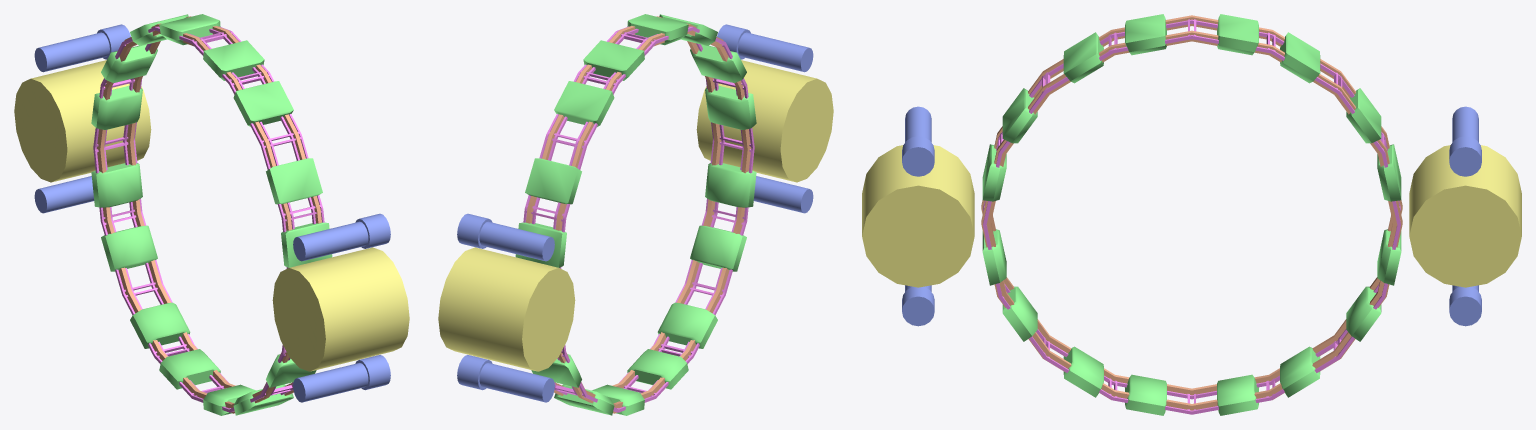
The model's file is tubeA_WituoutApart.FBX.
3 renders of one model, left to right at view 1: azimuth 30°, elevation 25°; view 2: azimuth 150°, elevation 25°; view 3: azimuth 270°, elevation 25°, orthographic. The views are drawn at different scales.
Visible parts, largest first — view 1: TubeAPartsC_v5_1, TubeAPartsD_v5_1, TubeAPartsB_v5_1_001, TubeAPartsE_v5_1, TubeAPartsF_v5_1; view 2: TubeAPartsC_v5_1, TubeAPartsD_v5_1, TubeAPartsB_v5_1_001, TubeAPartsE_v5_1, TubeAPartsF_v5_1; view 3: TubeAPartsC_v5_1, TubeAPartsD_v5_1, TubeAPartsF_v5_1, TubeAPartsB_v5_1_001, TubeAPartsE_v5_1.
Boxes of the visible parts, x1,y1,x2,y2 form: TubeAPartsC_v5_1: [14, 60, 409, 371]; TubeAPartsD_v5_1: [91, 14, 332, 415]; TubeAPartsB_v5_1_001: [34, 24, 390, 402]; TubeAPartsE_v5_1: [93, 26, 324, 412]; TubeAPartsF_v5_1: [96, 16, 321, 413]; TubeAPartsC_v5_1: [438, 60, 833, 371]; TubeAPartsD_v5_1: [515, 14, 756, 415]; TubeAPartsB_v5_1_001: [457, 24, 813, 402]; TubeAPartsE_v5_1: [523, 26, 754, 412]; TubeAPartsF_v5_1: [526, 16, 751, 413]; TubeAPartsC_v5_1: [862, 145, 1521, 287]; TubeAPartsD_v5_1: [982, 14, 1401, 415]; TubeAPartsF_v5_1: [981, 15, 1402, 410]; TubeAPartsB_v5_1_001: [902, 106, 1481, 326]; TubeAPartsE_v5_1: [983, 19, 1400, 414].
Size of the model in its own units: 5 by 20.59 by 32.23.
